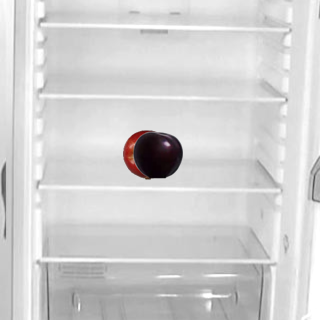Apple Braeburn: (122, 129, 172, 179)
Cherry Wax Black: (132, 129, 182, 179)
